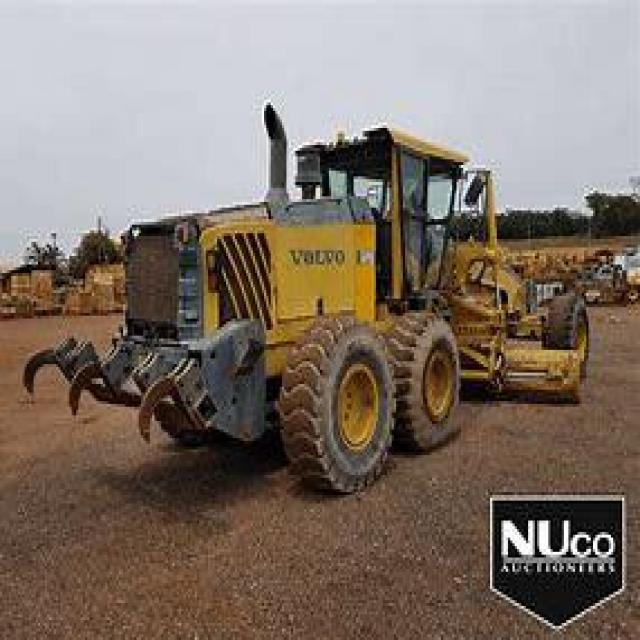Grader: (25, 97, 624, 492)
